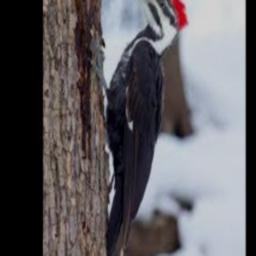Woodpecker: (88, 0, 189, 256)
